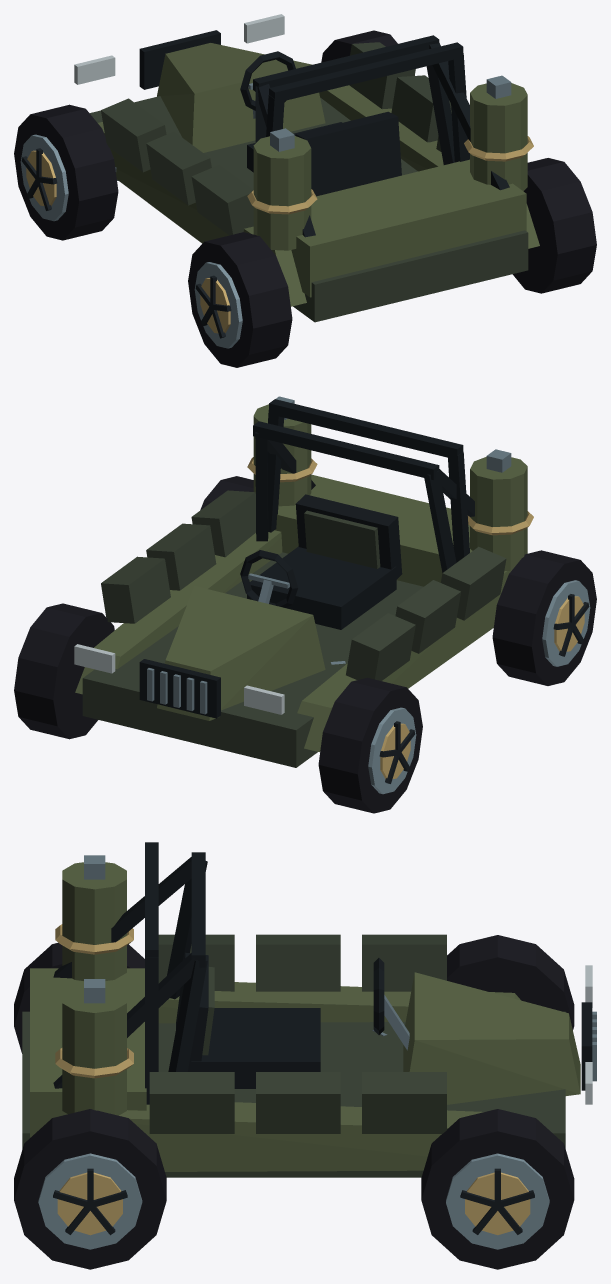
Rendered from kart.glb.
3 views of the same model, one above another, from view 1: azimuth 30°, elevation 25°; view 2: azimuth 150°, elevation 25°; view 3: azimuth 270°, elevation 25° (orthographic). The views are drawn at different scales.
Visible parts, largest first — view 1: identity-buggy-buggy-offroad-frame, identity-buggy-motif-armor, identity-buggy-motif-tanks, wheel-rear-left, wheel-front-left, wheel-rear-right, identity-buggy-driver-cockpit, identity-buggy-motif-rollbar, wheel-front-right; view 2: identity-buggy-buggy-offroad-frame, identity-buggy-motif-armor, identity-buggy-driver-cockpit, wheel-front-left, wheel-rear-left, wheel-front-right, identity-buggy-motif-tanks, identity-buggy-motif-rollbar, wheel-rear-right; view 3: identity-buggy-buggy-offroad-frame, identity-buggy-motif-armor, wheel-front-right, wheel-rear-right, identity-buggy-motif-tanks, identity-buggy-driver-cockpit, wheel-front-left, identity-buggy-motif-rollbar, wheel-rear-left.
Boxes of the visible parts, x1=… form: identity-buggy-buggy-offroad-frame: x1=74, y1=14, x2=539, y2=322; identity-buggy-motif-armor: x1=101, y1=42, x2=451, y2=235; identity-buggy-motif-tanks: x1=247, y1=75, x2=533, y2=250; wheel-rear-left: x1=188, y1=232, x2=292, y2=367; wheel-front-left: x1=14, y1=104, x2=118, y2=240; wheel-rear-right: x1=512, y1=158, x2=596, y2=293; identity-buggy-driver-cockpit: x1=240, y1=51, x2=401, y2=196; identity-buggy-motif-rollbar: x1=266, y1=42, x2=469, y2=162; wheel-front-right: x1=321, y1=30, x2=397, y2=62; identity-buggy-buggy-offroad-frame: x1=74, y1=421, x2=511, y2=767; identity-buggy-motif-armor: x1=101, y1=490, x2=506, y2=680; identity-buggy-driver-cockpit: x1=240, y1=494, x2=402, y2=629; wheel-front-left: x1=318, y1=677, x2=422, y2=813; wheel-rear-left: x1=492, y1=550, x2=596, y2=685; wheel-front-right: x1=14, y1=603, x2=114, y2=739; identity-buggy-motif-tanks: x1=247, y1=396, x2=533, y2=570; identity-buggy-motif-rollbar: x1=267, y1=399, x2=469, y2=562; wheel-rear-right: x1=200, y1=476, x2=253, y2=510; identity-buggy-buggy-offroad-frame: x1=22, y1=852, x2=596, y2=1177; identity-buggy-motif-armor: x1=149, y1=934, x2=446, y2=1133; wheel-front-right: x1=421, y1=1109, x2=574, y2=1269; wheel-rear-right: x1=14, y1=1109, x2=166, y2=1269; identity-buggy-motif-tanks: x1=55, y1=855, x2=133, y2=1115; identity-buggy-driver-cockpit: x1=176, y1=952, x2=409, y2=1088; wheel-front-left: x1=447, y1=935, x2=574, y2=1029; identity-buggy-motif-rollbar: x1=145, y1=842, x2=158, y2=1104; wheel-rear-left: x1=14, y1=942, x2=144, y2=1053.
Bounding box in the file's own units: 2.31 × 1.43 × 2.75.
